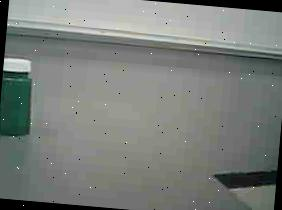Bottle C: (0, 48, 53, 152)
